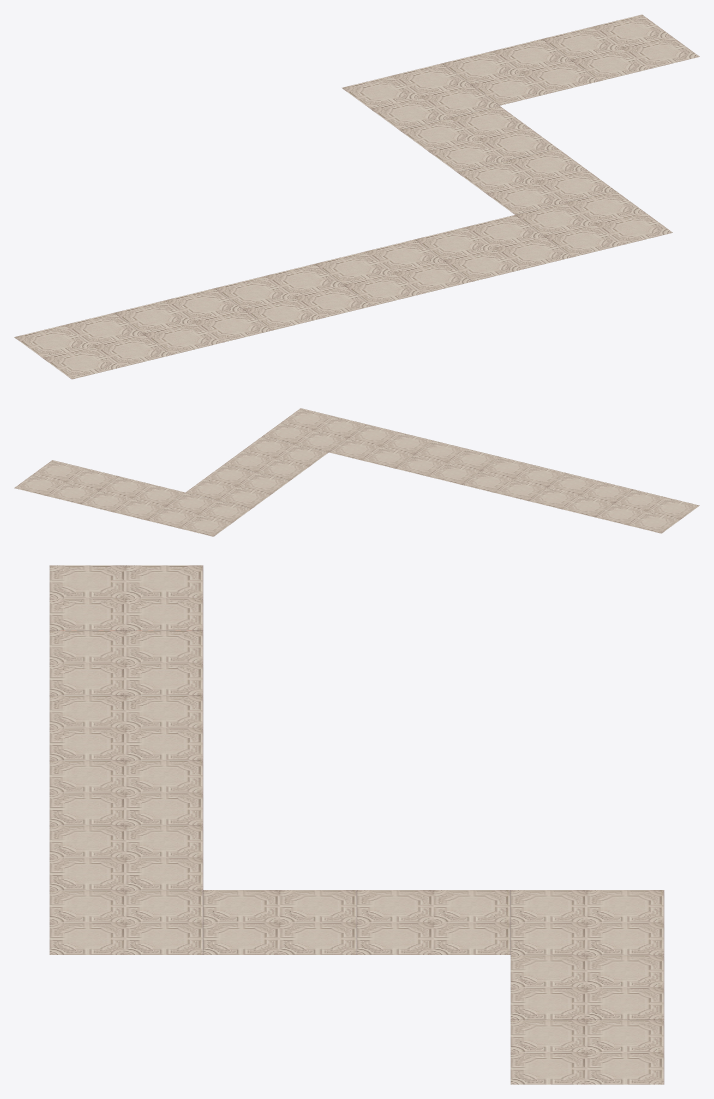
File: ceiling-set-room-2.obj
3 renders of one model, top to bottom at view 1: azimuth 30°, elevation 25°; view 2: azimuth 150°, elevation 25°; view 3: azimuth 270°, elevation 25°, orthographic. The views are drawn at different scales.
Parts seen in each view (by area): view 1: ceiling-set-room-2_Plane.012; view 2: ceiling-set-room-2_Plane.012; view 3: ceiling-set-room-2_Plane.012.
Part boxes in pixels (x1,y1,x2,y2): ceiling-set-room-2_Plane.012: (14, 14, 699, 379); ceiling-set-room-2_Plane.012: (14, 408, 699, 536); ceiling-set-room-2_Plane.012: (49, 565, 664, 1084).
Bounding box in the file's own units: 32 × 0 × 16.
1 material, 1 textured.
